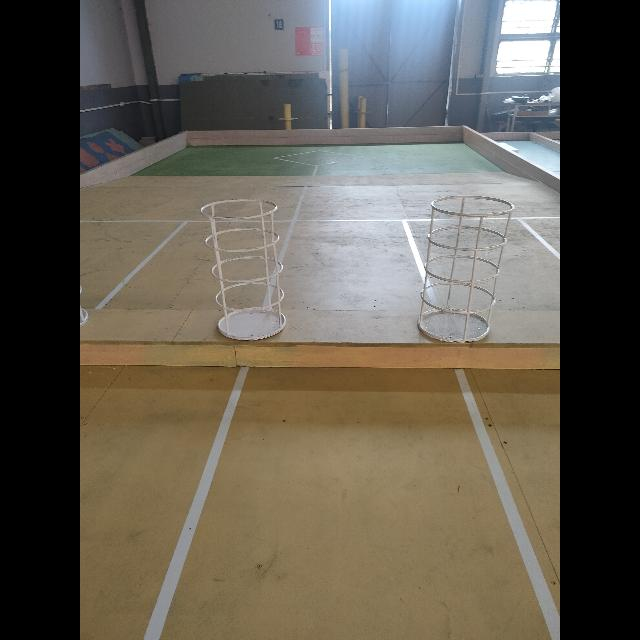S: (416, 193, 516, 345), (199, 196, 289, 344)
